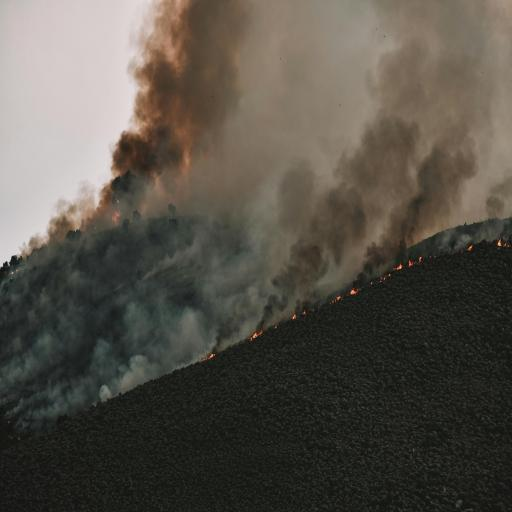smoke: (101, 0, 512, 229)
wildfire: (0, 88, 512, 460)
